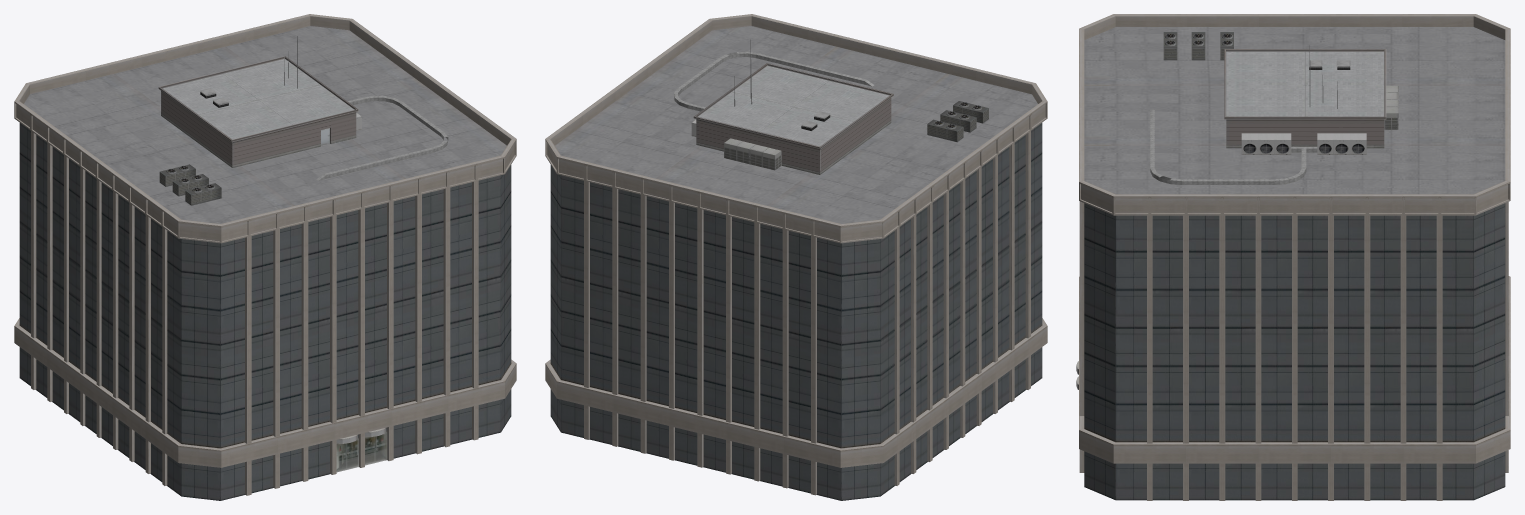
File: building-c.glb
3 renders of one model, left to right at view 1: azimuth 30°, elevation 25°; view 2: azimuth 150°, elevation 25°; view 3: azimuth 270°, elevation 25°, orthographic. The views are drawn at different scales.
Parts seen in each view (by area): view 1: AIT01W2W8; view 2: AIT01W2W8; view 3: AIT01W2W8.
Part boxes in pixels (box(x1,y1,x2,y2)): AIT01W2W8: box(14, 14, 516, 500); AIT01W2W8: box(545, 14, 1047, 500); AIT01W2W8: box(1076, 14, 1510, 500).
Size of the model in its own units: 1.99 by 1.98 by 2.
1 material, 1 textured.
